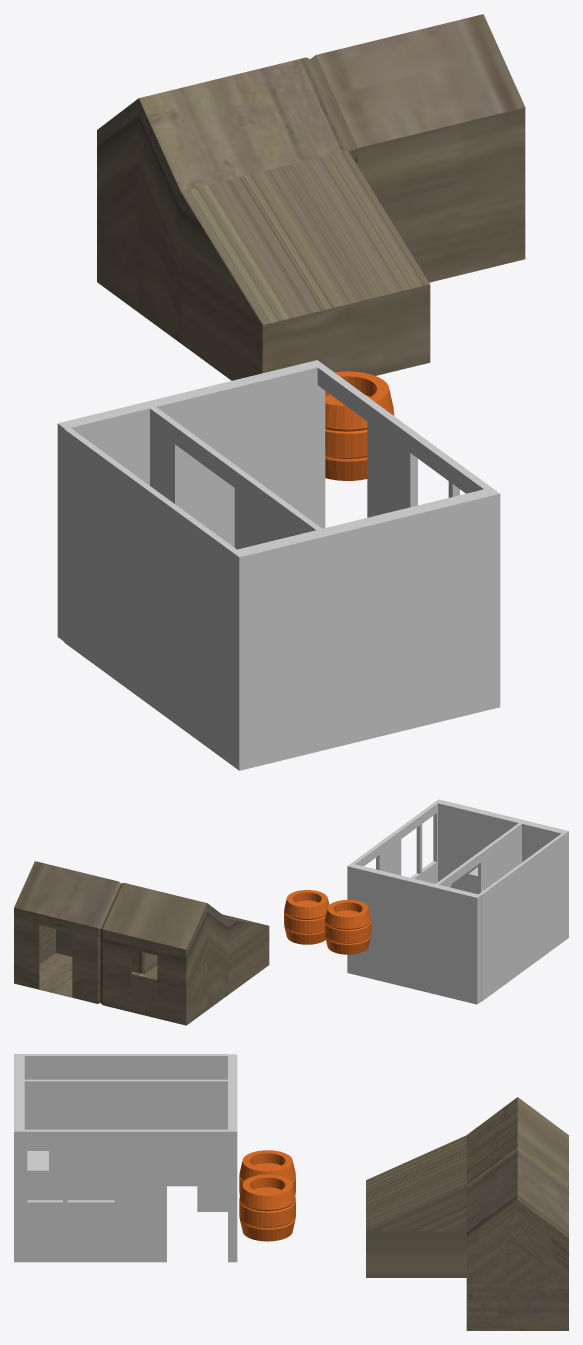
Rendered from House.glb.
3 renders of one model, top to bottom at view 1: azimuth 30°, elevation 25°; view 2: azimuth 150°, elevation 25°; view 3: azimuth 270°, elevation 25°, orthographic. The views are drawn at different scales.
Parts seen in each view (by area): view 1: Cube.006, Cube.009, Cylinder.012; view 2: Cube.006, Cube.009, Cylinder.013, Cylinder.012; view 3: Cube.006, Cube.009, Cylinder.012, Cylinder.013.
Boxes of the visible parts, left/top/right/bottom form: Cube.006: left=57, top=360, right=500, bottom=770; Cube.009: left=97, top=14, right=525, bottom=380; Cylinder.012: left=325, top=371, right=394, bottom=480; Cube.006: left=347, top=799, right=568, bottom=1004; Cube.009: left=14, top=861, right=269, bottom=1025; Cylinder.013: left=324, top=900, right=371, bottom=954; Cylinder.012: left=284, top=890, right=329, bottom=944; Cube.006: left=14, top=1054, right=237, bottom=1262; Cube.009: left=366, top=1097, right=568, bottom=1330; Cylinder.012: left=239, top=1174, right=295, bottom=1241; Cylinder.013: left=239, top=1150, right=295, bottom=1194.
Bounding box in the file's own units: 4.5 × 1.93 × 5.39.
Materials: 2 (1 with a texture image).
